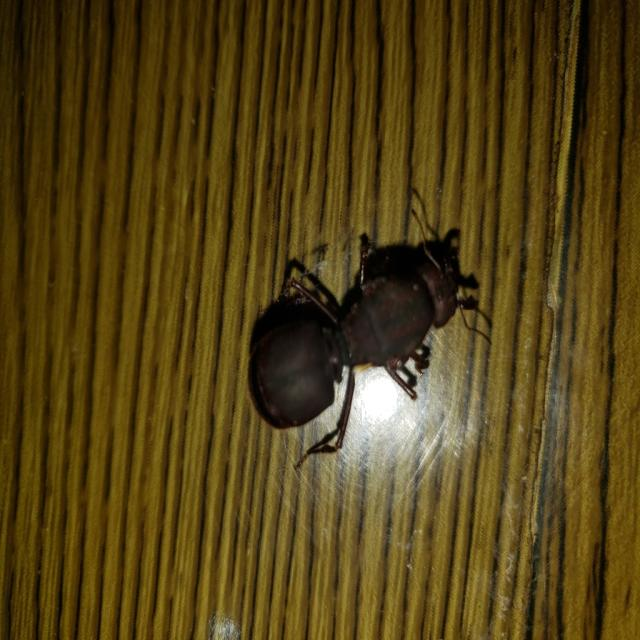Alive-Female-Dealate: (248, 207, 492, 469)
